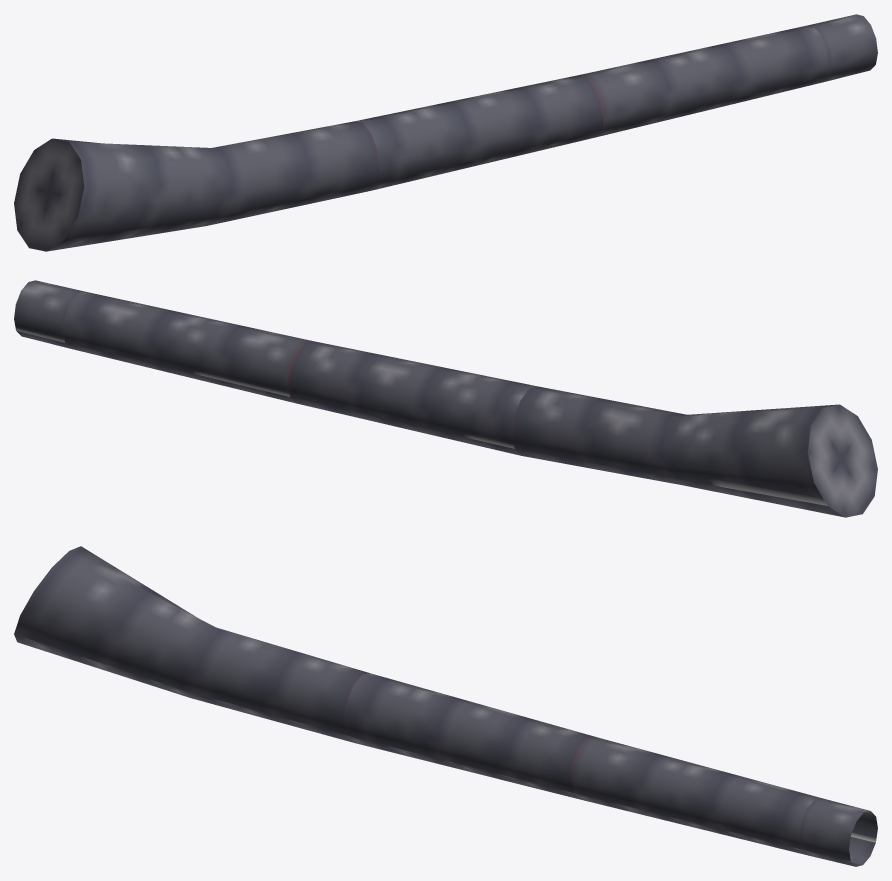
File: Roof_CentreEnd.fbx
3 renders of one model, top to bottom at view 1: azimuth 30°, elevation 25°; view 2: azimuth 150°, elevation 25°; view 3: azimuth 330°, elevation 25°, orthographic.
Visible parts, largest first — view 1: RoofCentre_End; view 2: RoofCentre_End; view 3: RoofCentre_End.
Boxes of the visible parts, x1,y1,x2,y2 form: RoofCentre_End: [14, 14, 877, 251]; RoofCentre_End: [14, 280, 877, 517]; RoofCentre_End: [14, 546, 877, 866].
Bounding box in the file's own units: 386 × 53.37 × 46.48.
